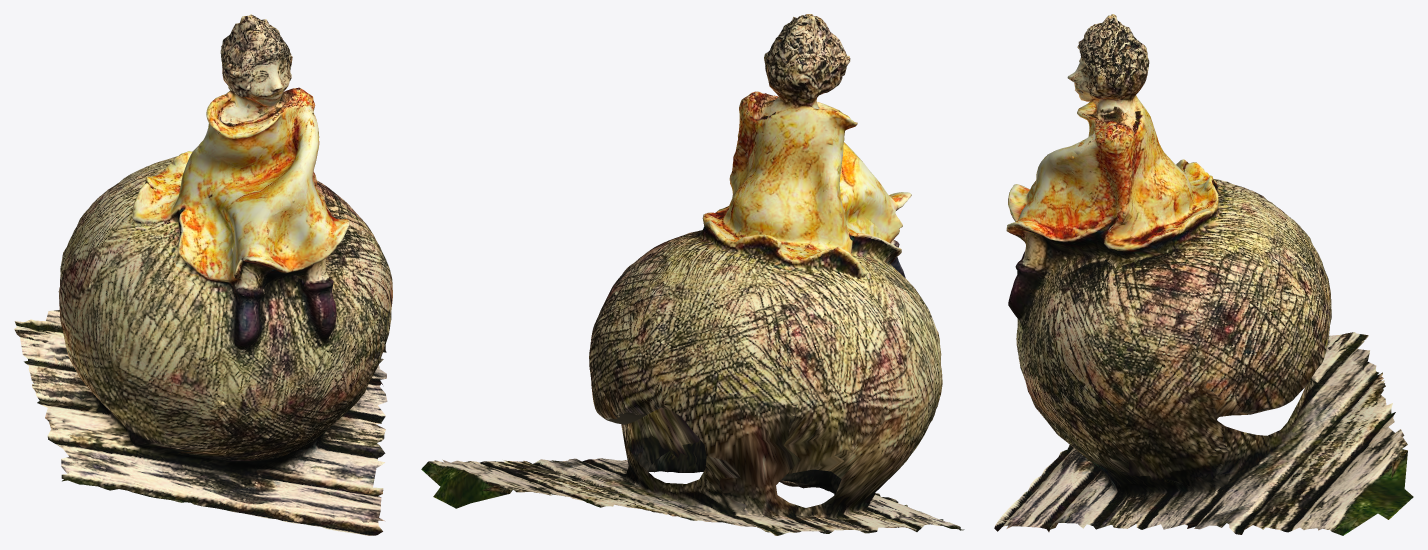
File: goldenGirlOnBall.obj
3 renders of one model, left to right at view 1: azimuth 30°, elevation 25°; view 2: azimuth 150°, elevation 25°; view 3: azimuth 270°, elevation 25°, orthographic. The views are drawn at different scales.
Parts seen in each view (by area): view 1: goldenGirlOnBall; view 2: goldenGirlOnBall; view 3: goldenGirlOnBall.
Boxes of the visible parts, x1,y1,x2,y2 form: goldenGirlOnBall: (14, 14, 392, 535); goldenGirlOnBall: (421, 14, 964, 535); goldenGirlOnBall: (994, 14, 1413, 535).
Bounding box in the file's own units: 17.87 × 19.95 × 15.81.
Materials: 1 (1 with a texture image).
